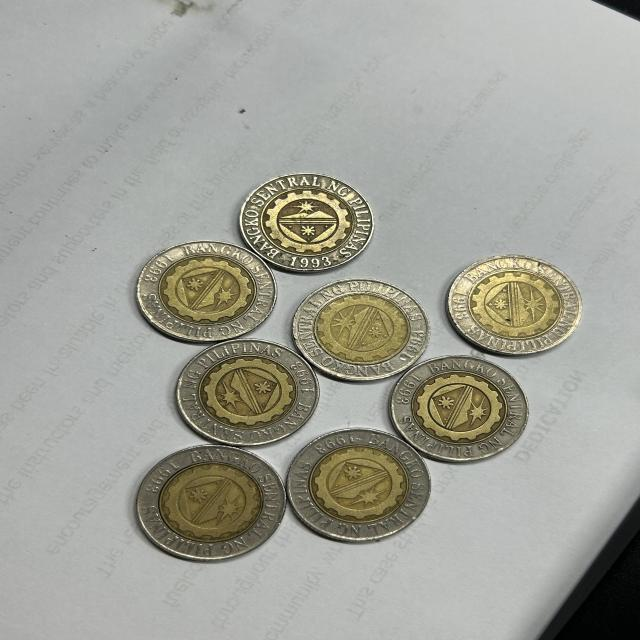10_Old_Back: (147, 450, 274, 552), (188, 342, 309, 445), (300, 440, 424, 532), (153, 247, 270, 340), (412, 360, 511, 460), (308, 281, 413, 374), (463, 260, 565, 351), (253, 181, 359, 267)
